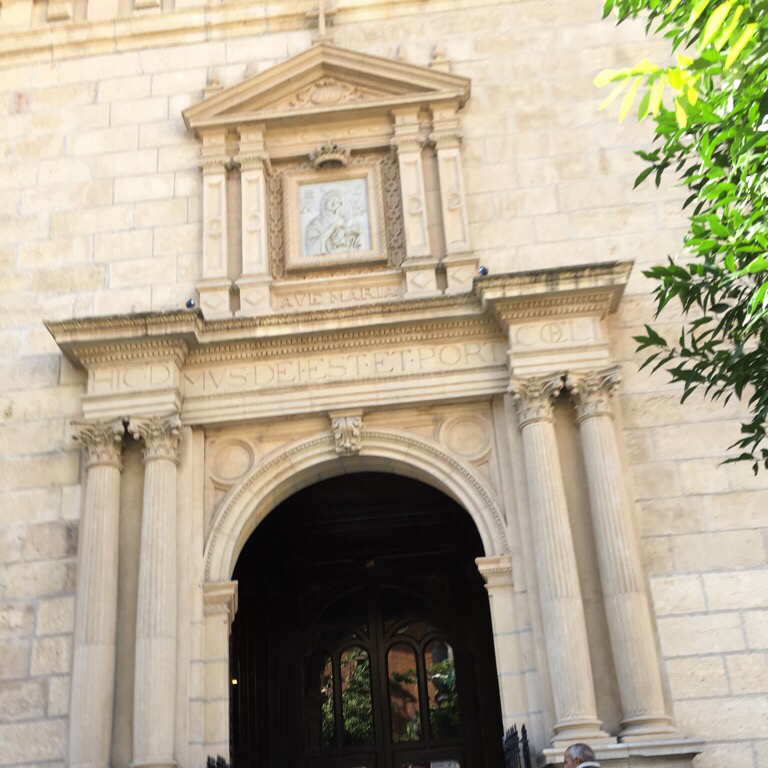arco-medio-punto: (222, 437, 501, 627)
fronton: (180, 37, 474, 139)
